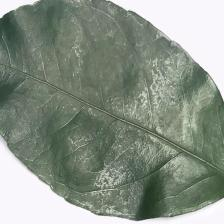healthy: (7, 28, 124, 180)
